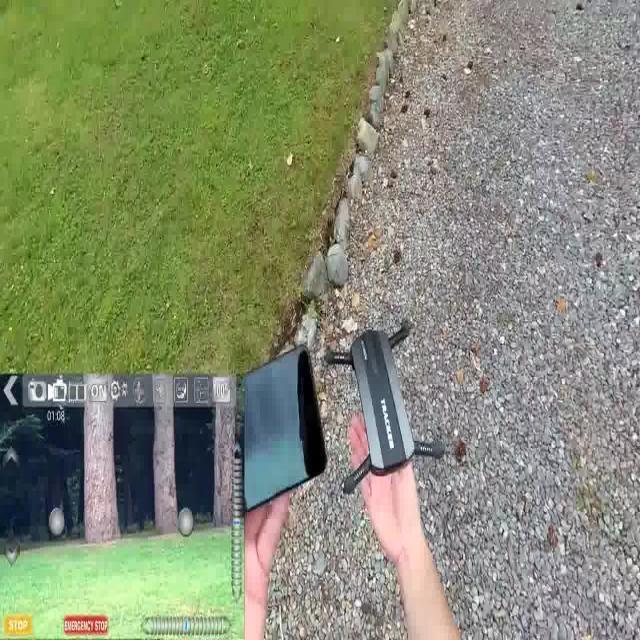drones: (318, 320, 449, 500)
